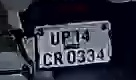0: (67, 49, 77, 65)
1: (72, 29, 81, 43)
3: (85, 47, 96, 62), (77, 49, 85, 64)
4: (81, 28, 92, 44), (97, 47, 105, 62)
C: (41, 51, 53, 67)
P: (60, 29, 69, 46)
R: (54, 50, 65, 66)
U: (48, 29, 61, 46)
